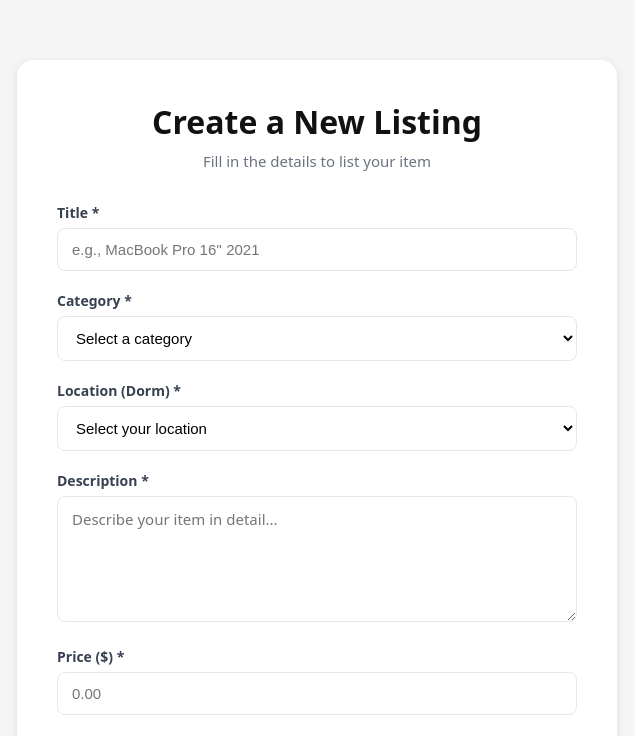
Test: CreateListing › Form Validation › shows error when price is empty
Type "Test Title" into the field labelled "Title *".
click(317, 250); type("Test Title")  # box left=57, top=228, right=577, bottom=271
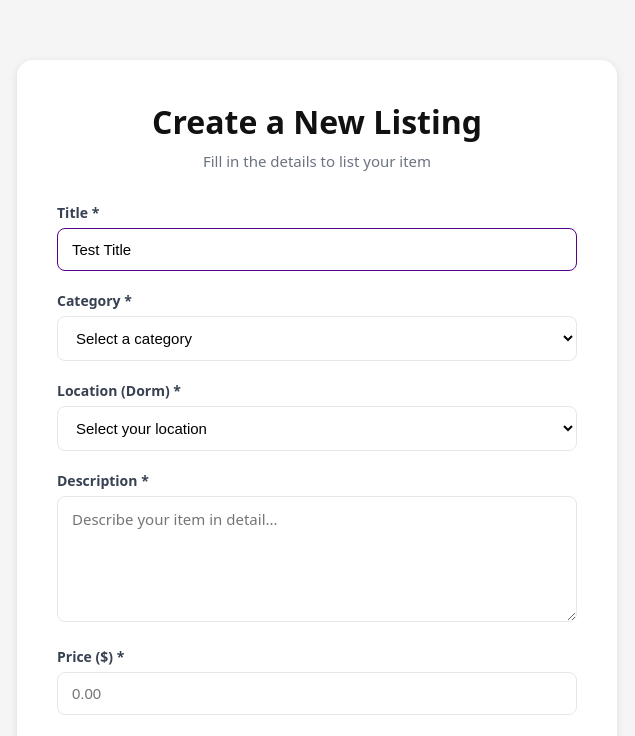
Type "Test Description" into the text box labelled "Description *".
click(317, 559); type("Test Description")  # box left=57, top=496, right=577, bottom=622
(page scrolled)
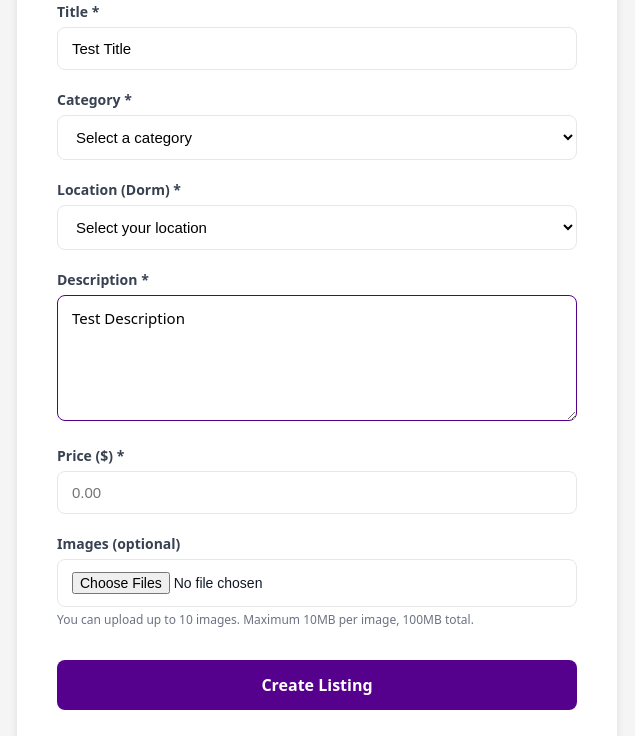
Click the button "Create Listing".
click(317, 685)  # box left=57, top=660, right=577, bottom=710
(page scrolled)
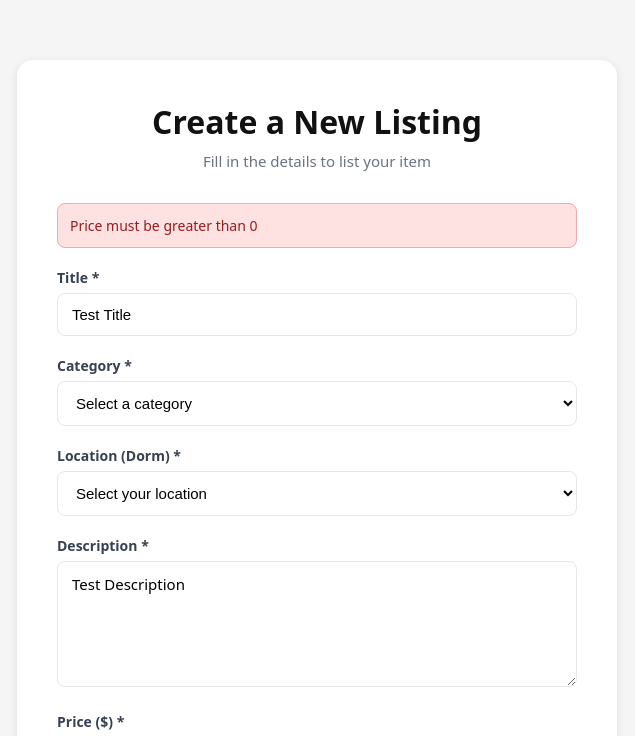
Now the text "Price must be greater than 0" is shown, box left=57, top=203, right=577, bottom=248
